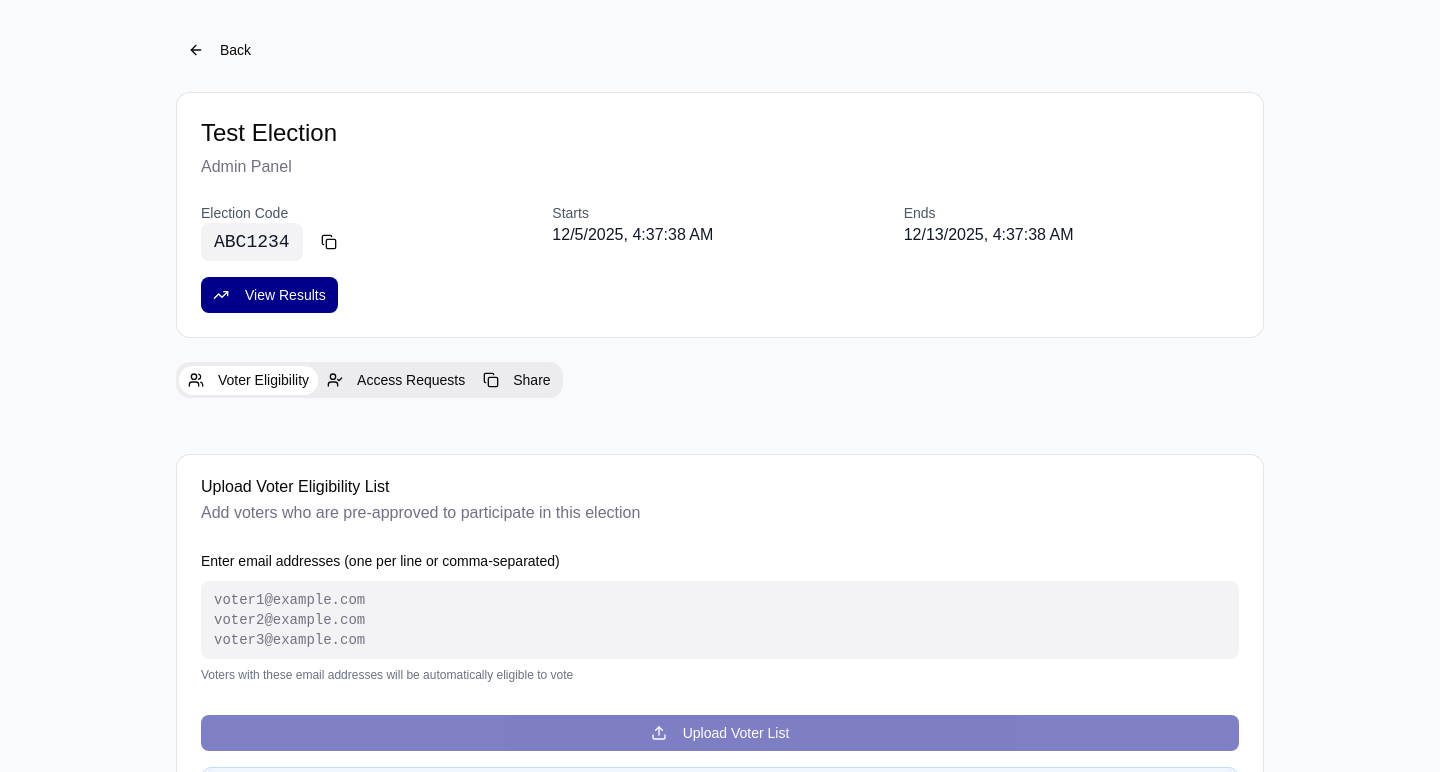
Test case: AdminPanel - handleUploadVoters › State cleanup › should not clear voterList on error
Expected: the heading "Test Election" is shown, [201,119,337,146]
Type "valid@example.com" into the text box with placeholder "voter1@example.com voter2@example.com voter3@example.com" at (720, 620), box [201,581,1239,659]
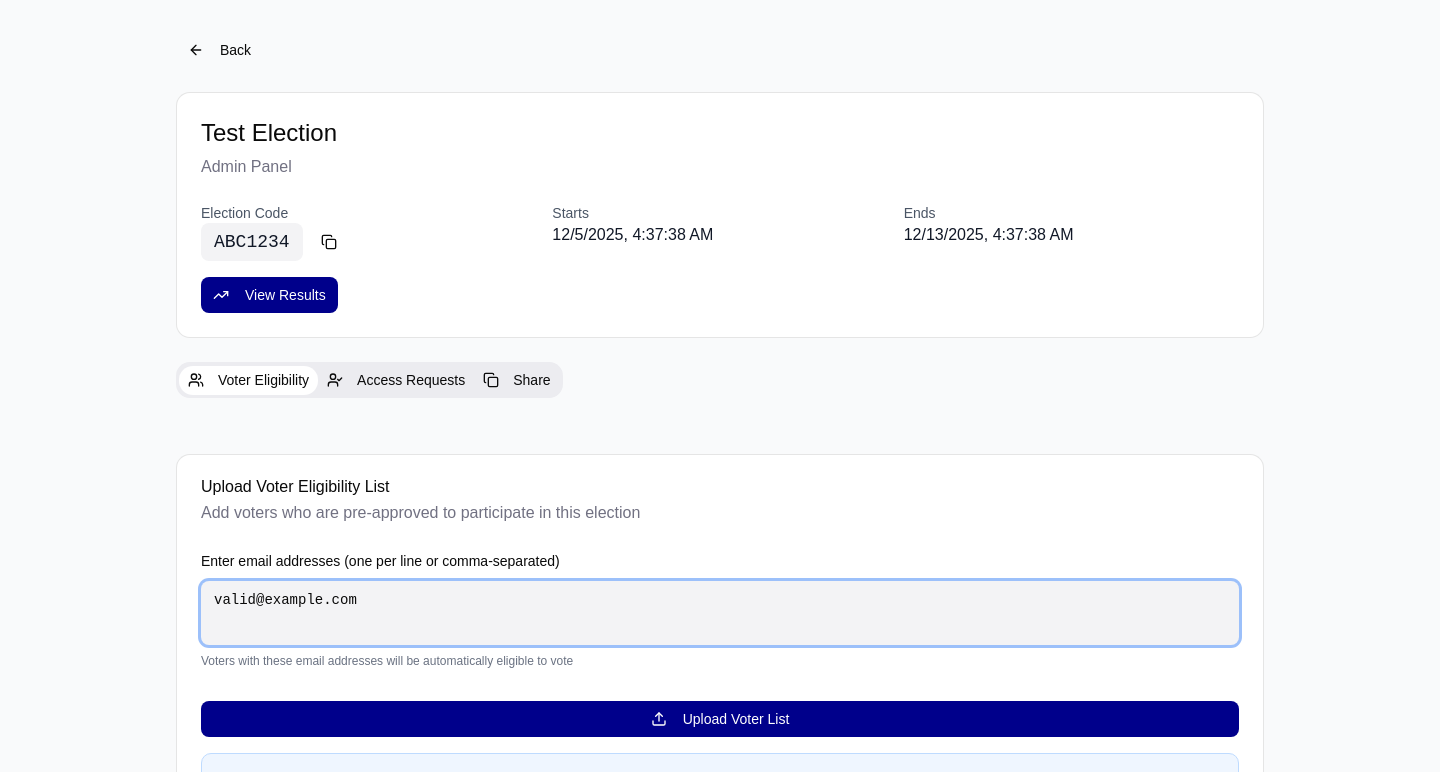
Click the button "Upload Voter List" at (720, 719), box [201,701,1239,737]
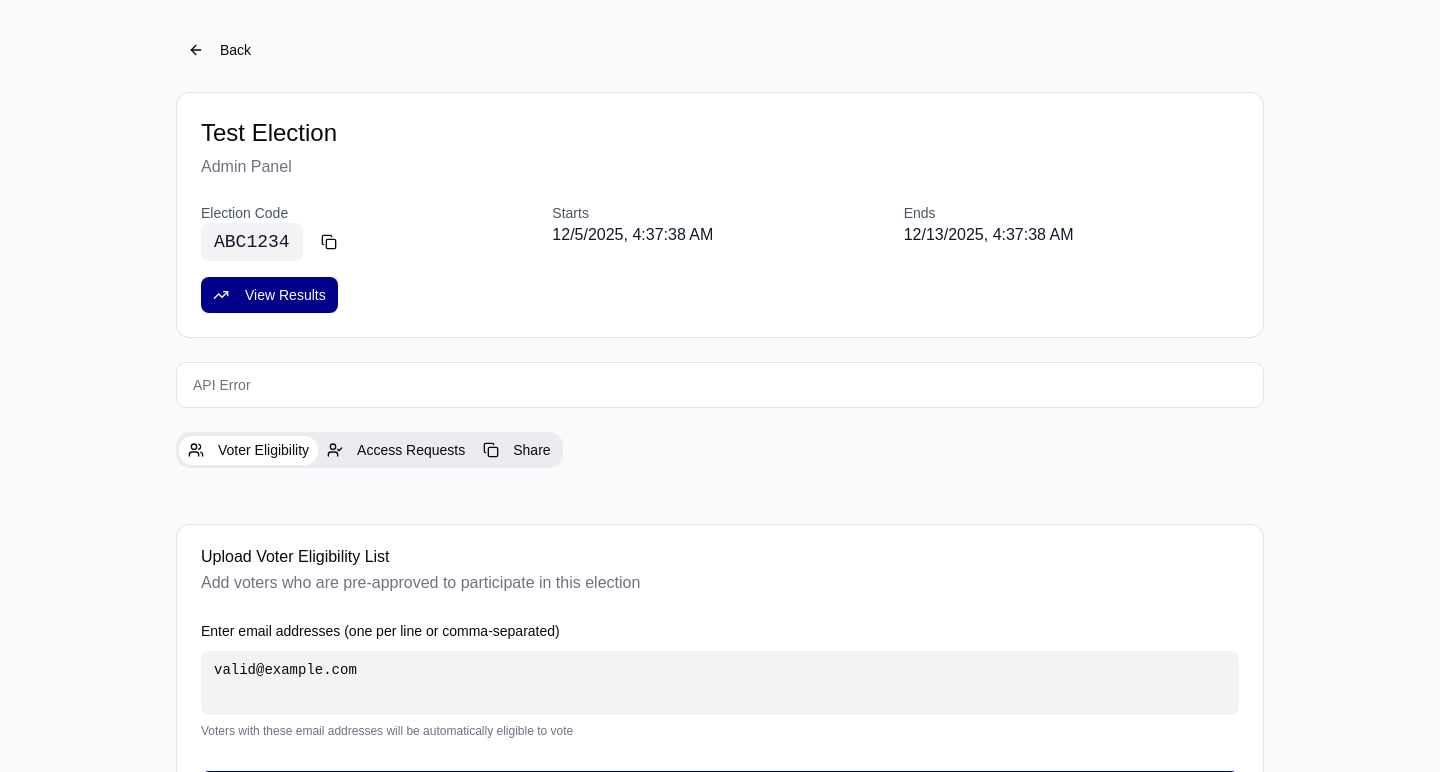
Result: the text "API Error" is shown at [193,377,251,393]
